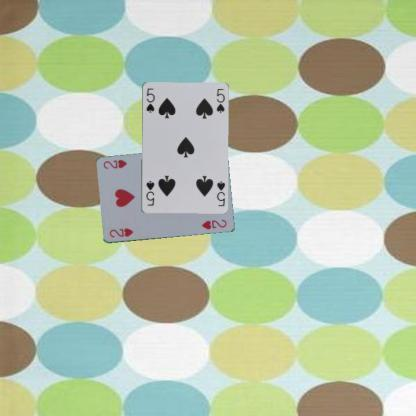2h: (107, 226, 134, 238)
5s: (214, 178, 226, 207), (144, 86, 156, 114)
